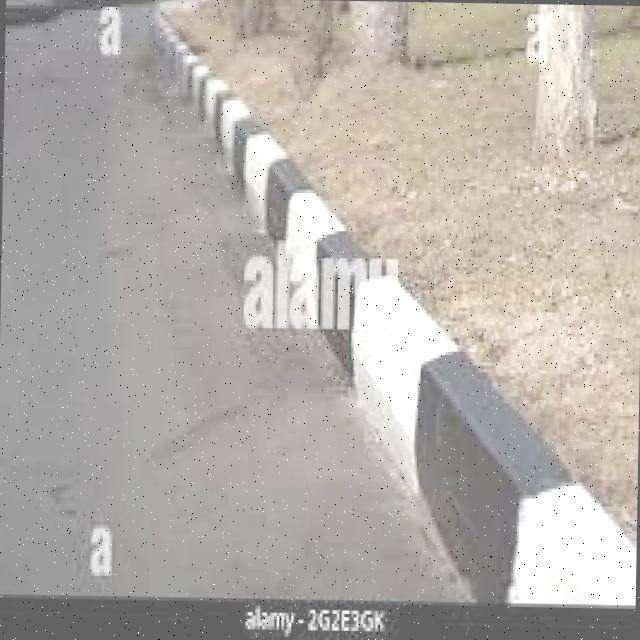curb: (352, 346, 636, 604), (264, 203, 428, 382), (188, 101, 337, 231), (145, 13, 220, 104)
